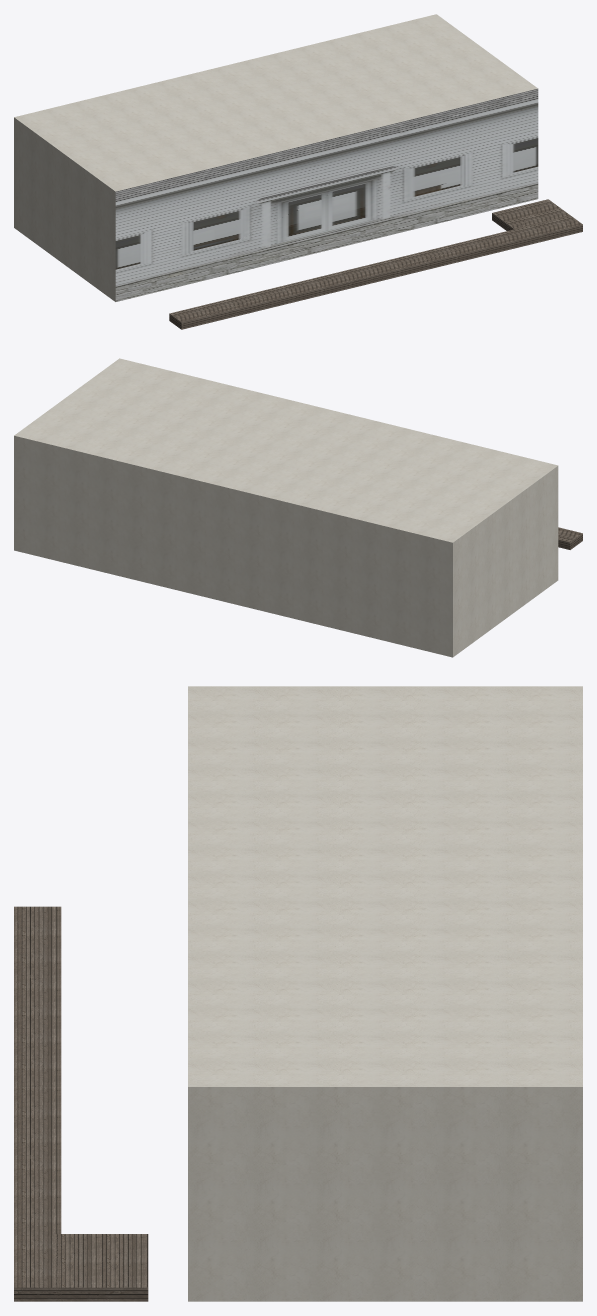
File: marina-clubhouse_lod0.gltf
The picture shows the model from 3 angles, top to bottom: view 1: azimuth 30°, elevation 25°; view 2: azimuth 150°, elevation 25°; view 3: azimuth 270°, elevation 25°; orthographic projection. The views are drawn at different scales.
Parts seen in each view (by area): view 1: marina-clubhouse_main, marina-clubhouse_front, marina-clubhouse__dock_pier_a, marina-clubhouse__dock_pier_b, marina-clubhouse__fuel_dock; view 2: marina-clubhouse_main, marina-clubhouse__dock_pier_a; view 3: marina-clubhouse_main, marina-clubhouse__dock_pier_b, marina-clubhouse__dock_pier_a, marina-clubhouse__fuel_dock.
Part boxes in pixels (x1=…): marina-clubhouse_main: x1=14, y1=14, x2=537, y2=301; marina-clubhouse_front: x1=115, y1=88, x2=538, y2=301; marina-clubhouse__dock_pier_a: x1=169, y1=262, x2=392, y2=329; marina-clubhouse__dock_pier_b: x1=371, y1=215, x2=582, y2=282; marina-clubhouse__fuel_dock: x1=492, y1=199, x2=570, y2=230; marina-clubhouse_main: x1=14, y1=358, x2=558, y2=657; marina-clubhouse__dock_pier_a: x1=558, y1=527, x2=582, y2=549; marina-clubhouse_main: x1=188, y1=686, x2=582, y2=1301; marina-clubhouse__dock_pier_b: x1=14, y1=1087, x2=61, y2=1301; marina-clubhouse__dock_pier_a: x1=14, y1=906, x2=61, y2=1086; marina-clubhouse__fuel_dock: x1=53, y1=1234, x2=148, y2=1301.
Bounding box in the file's own units: 60 × 15 × 36.
